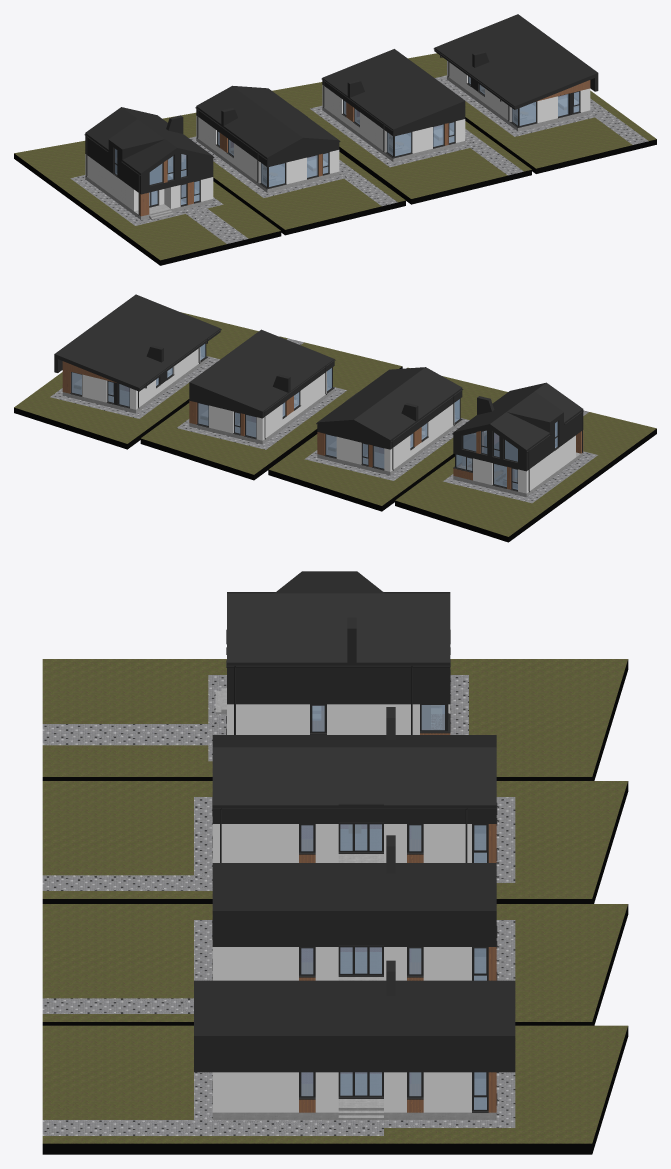
The model's file is ИЖД Васильково одноэтажные 2.fbx.
The picture shows the model from 3 angles, top to bottom: view 1: azimuth 30°, elevation 25°; view 2: azimuth 150°, elevation 25°; view 3: azimuth 270°, elevation 25°; orthographic projection. The views are drawn at different scales.
Visible parts, largest first — view 1: Фальцевая кровля, Трава - Коричневая, Краска - Белила Титановые, Бетон - 10, HAG Black Ultra, Стекло - Голубое, Потолок - Плитка 60x120, Краска - Антрацит, Обшивка - рыжая О2, Краска-04; view 2: Фальцевая кровля, Трава - Коричневая, Краска - Белила Титановые, HAG Black Ultra, Бетон - 10, Стекло - Голубое, Потолок - Плитка 60x120, Обшивка - рыжая О2, Краска - Антрацит, Краска-04; view 3: Трава - Коричневая, Фальцевая кровля, Краска - Белила Титановые, Бетон - 10, HAG Black Ultra, Стекло - Голубое, Потолок - Плитка 60x120, Краска - Антрацит, Обшивка - рыжая О2, Краска-04.
Boxes of the visible parts, box(x1,y1,x2,y2) form: Фальцевая кровля: box(85, 14, 598, 194); Трава - Коричневая: box(14, 53, 656, 260); Краска - Белила Титановые: box(85, 61, 590, 211); Бетон - 10: box(70, 75, 648, 243); HAG Black Ultra: box(14, 117, 656, 265); Стекло - Голубое: box(115, 76, 579, 205); Потолок - Плитка 60x120: box(85, 76, 590, 219); Краска - Антрацит: box(113, 76, 580, 207); Обшивка - рыжая О2: box(139, 80, 590, 216); Краска-04: box(84, 48, 514, 215); Фальцевая кровля: box(54, 294, 583, 471); Трава - Коричневая: box(14, 312, 656, 536); Краска - Белила Титановые: box(72, 347, 575, 493); HAG Black Ultra: box(14, 366, 656, 542); Бетон - 10: box(50, 338, 597, 503); Стекло - Голубое: box(71, 344, 557, 489); Потолок - Плитка 60x120: box(62, 357, 583, 497); Обшивка - рыжая О2: box(62, 361, 583, 489); Краска - Антрацит: box(70, 343, 558, 491); Краска-04: box(138, 329, 583, 492); Трава - Коричневая: box(42, 659, 627, 1143); Фальцевая кровля: box(194, 571, 515, 1072); Краска - Белила Титановые: box(212, 704, 471, 1112); Бетон - 10: box(42, 675, 515, 1135); HAG Black Ultra: box(42, 659, 628, 1154); Стекло - Голубое: box(301, 705, 486, 1109); Потолок - Плитка 60x120: box(212, 688, 496, 1119); Краска - Антрацит: box(212, 629, 497, 1112); Обшивка - рыжая О2: box(299, 711, 496, 1112); Краска-04: box(212, 665, 496, 862).
Bounding box in the file's own units: 6163 × 3146 × 818.
30 materials, 15 textured.
